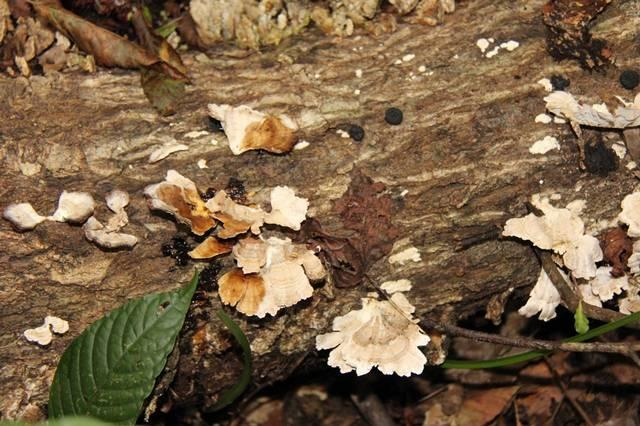Non-edible Mushroom: (79, 165, 324, 319), (497, 196, 640, 338), (314, 293, 431, 378)
